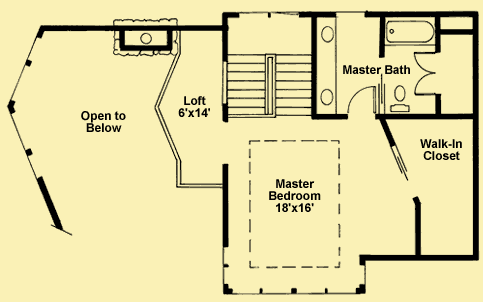door: (412, 50, 438, 98), (346, 82, 376, 116)
large_sink: (388, 81, 413, 114)
small_sink: (316, 16, 338, 114)
stairs: (227, 53, 314, 120)
tub: (384, 16, 438, 48)
